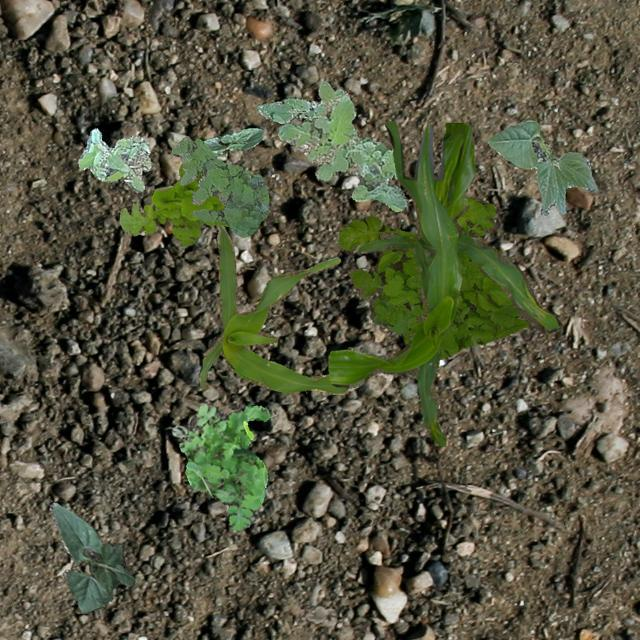crop: (328, 120, 560, 446), (198, 222, 354, 392), (487, 120, 598, 214), (48, 502, 134, 612), (203, 126, 263, 156)
weed: (336, 195, 528, 358), (276, 80, 406, 210), (178, 402, 268, 530), (170, 134, 268, 236), (118, 162, 225, 245), (78, 126, 150, 192), (256, 88, 346, 122)
